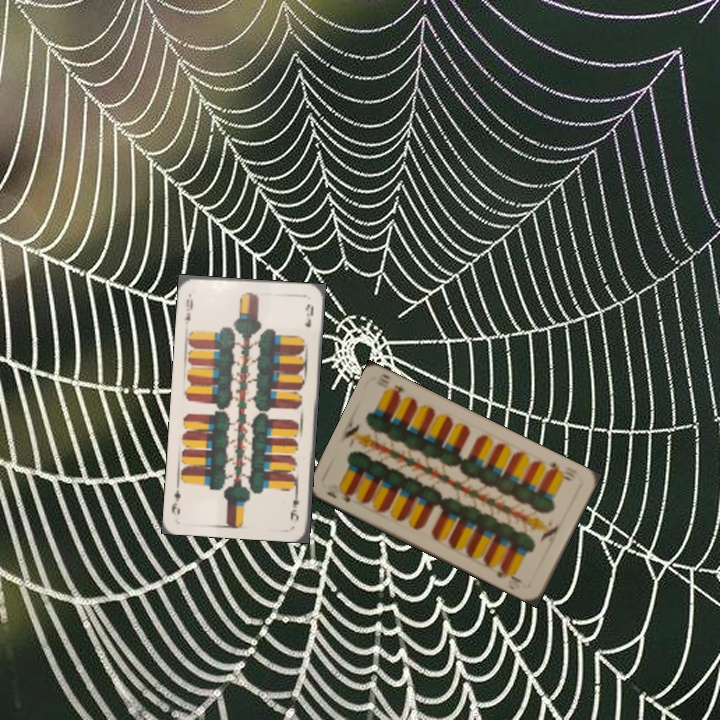E10: (543, 458, 575, 484), (322, 487, 356, 505)
E9: (286, 486, 302, 526), (181, 295, 196, 323)
